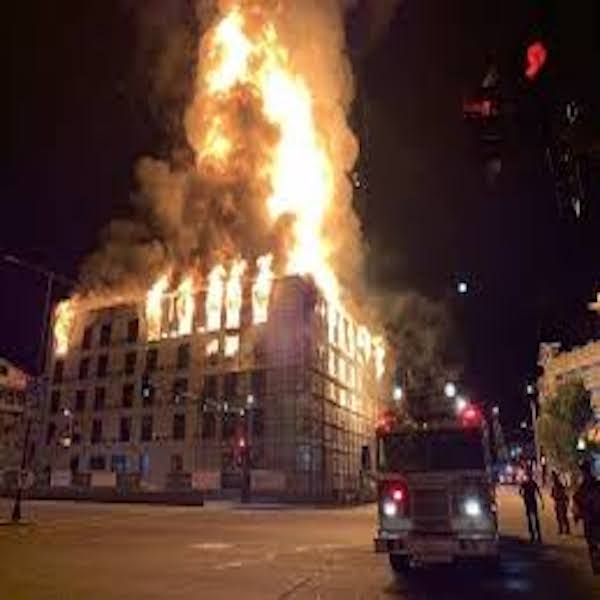fire: (180, 1, 360, 283), (146, 286, 267, 330), (333, 298, 388, 377), (52, 293, 79, 360)
